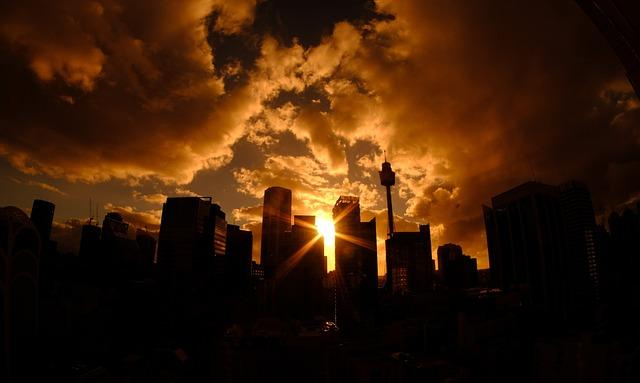Non_Gorille: (18, 66, 516, 332)
